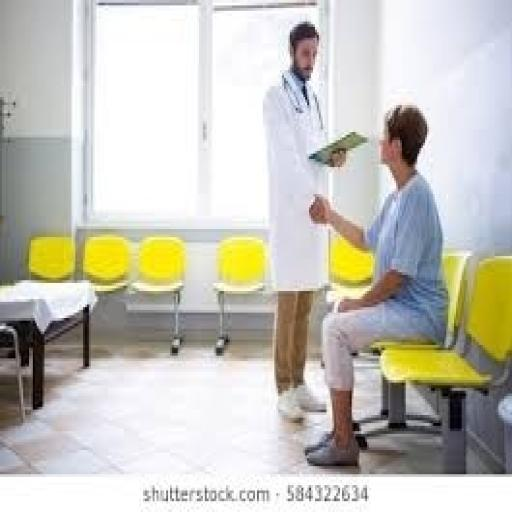sitting: (302, 100, 450, 466)
